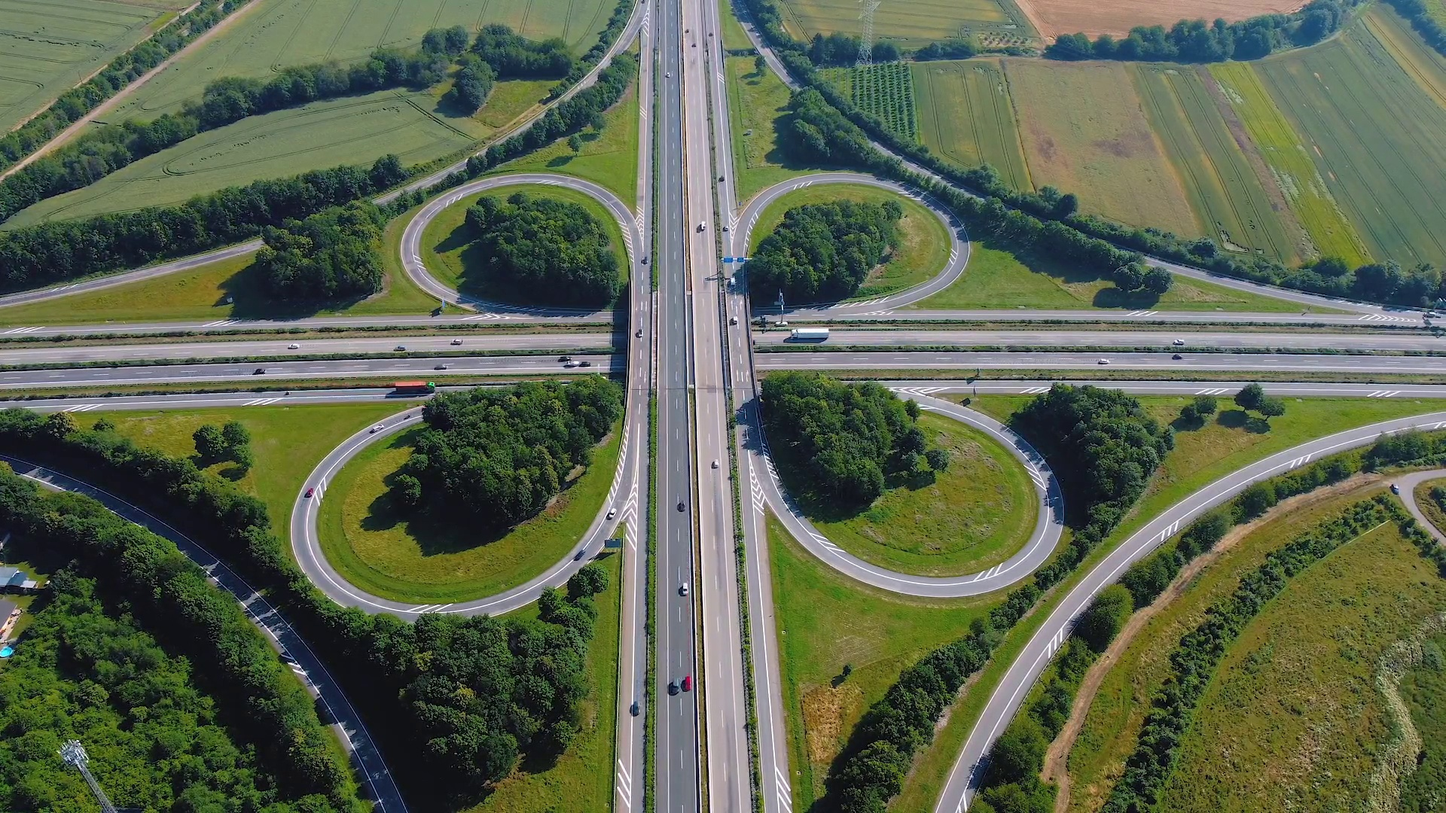Vehicle: (396, 381, 434, 393), (793, 329, 828, 338), (672, 676, 680, 693), (1389, 483, 1400, 495), (632, 698, 639, 716), (712, 456, 720, 471), (684, 676, 692, 691), (677, 498, 686, 511), (305, 488, 315, 499), (575, 549, 585, 560), (563, 362, 580, 368), (700, 218, 706, 234), (609, 506, 616, 519), (682, 581, 689, 594), (433, 364, 447, 370), (731, 315, 738, 327), (637, 326, 644, 338), (559, 355, 571, 362), (450, 339, 464, 345), (1098, 359, 1110, 365), (641, 256, 648, 266), (1173, 339, 1184, 345), (393, 346, 406, 351), (287, 344, 299, 349), (579, 362, 591, 367), (719, 175, 726, 183), (1424, 313, 1435, 318), (255, 368, 266, 373), (373, 426, 382, 432), (730, 277, 736, 286), (1172, 355, 1182, 360), (723, 223, 728, 232), (666, 71, 670, 78), (709, 32, 714, 36), (686, 28, 690, 33), (693, 42, 697, 46)
